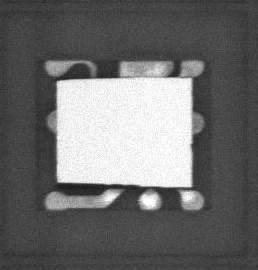DIE_BROKEN: (57, 180, 139, 188)
